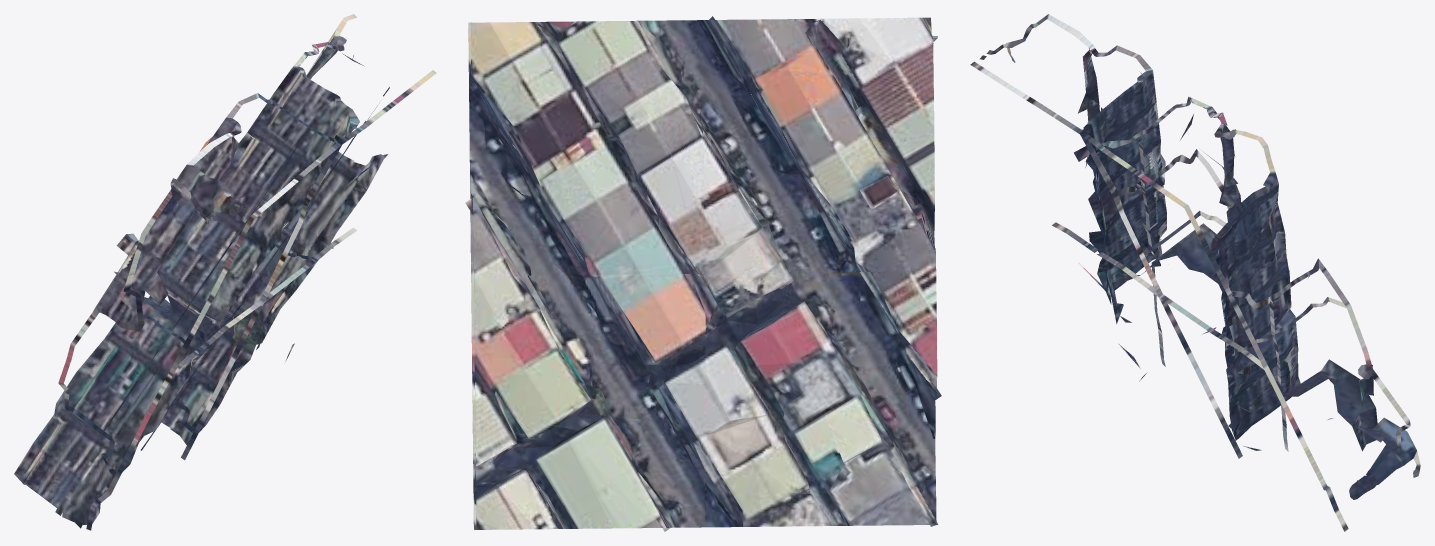
3 views of the same model, side by side, from view 1: azimuth 30°, elevation 25°; view 2: azimuth 150°, elevation 25°; view 3: azimuth 270°, elevation 25° (orthographic). The views are drawn at different scales.
Bounding box in the file's own units: 83.63 × 77.06 × 77.19.
1 material, 1 textured.
